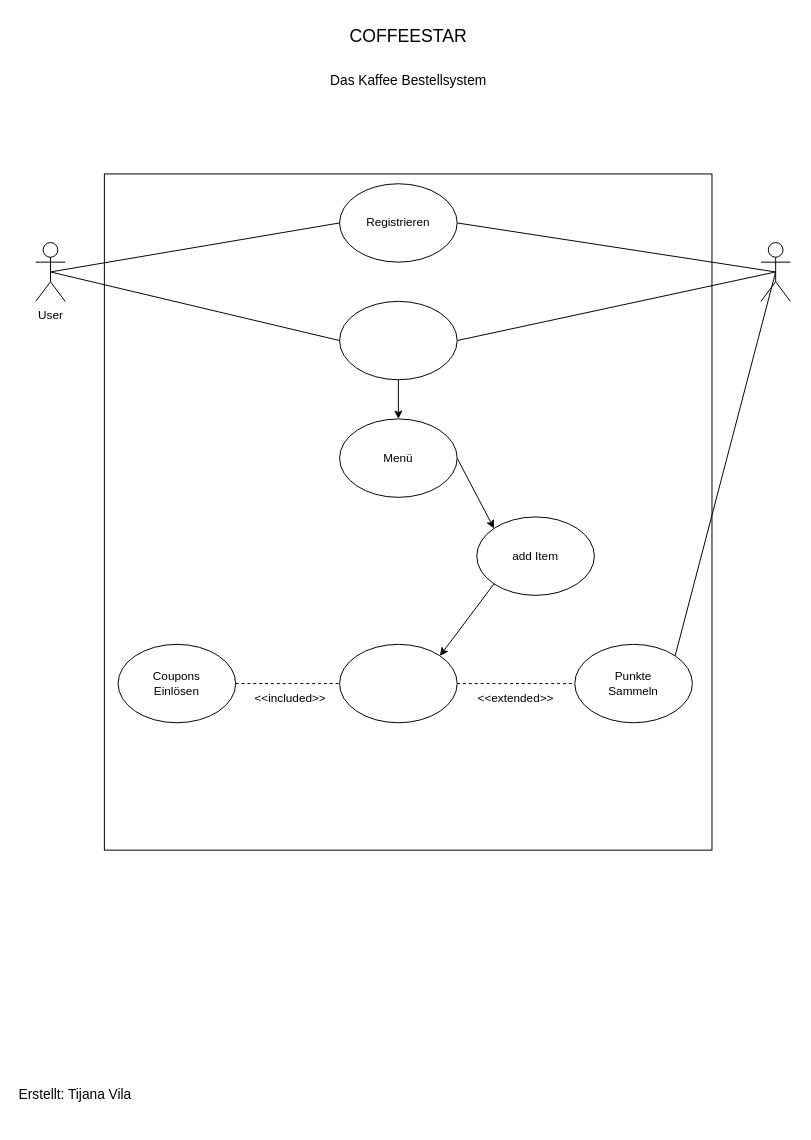
Image size: 811x1140. Some labels were removed from this diagram. Here are the shapes that lost their labels. From the top down, the box of each, then its label:
(760, 242, 790, 301): System
(339, 300, 457, 380): Einloggen
(339, 643, 457, 723): Bestellung abschließen
